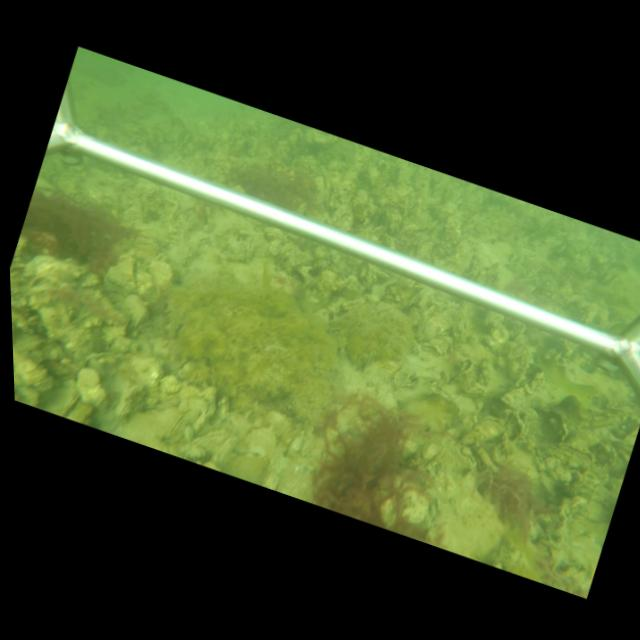Oyster-Closed: (211, 434, 239, 466), (185, 430, 224, 452), (163, 411, 186, 442)
